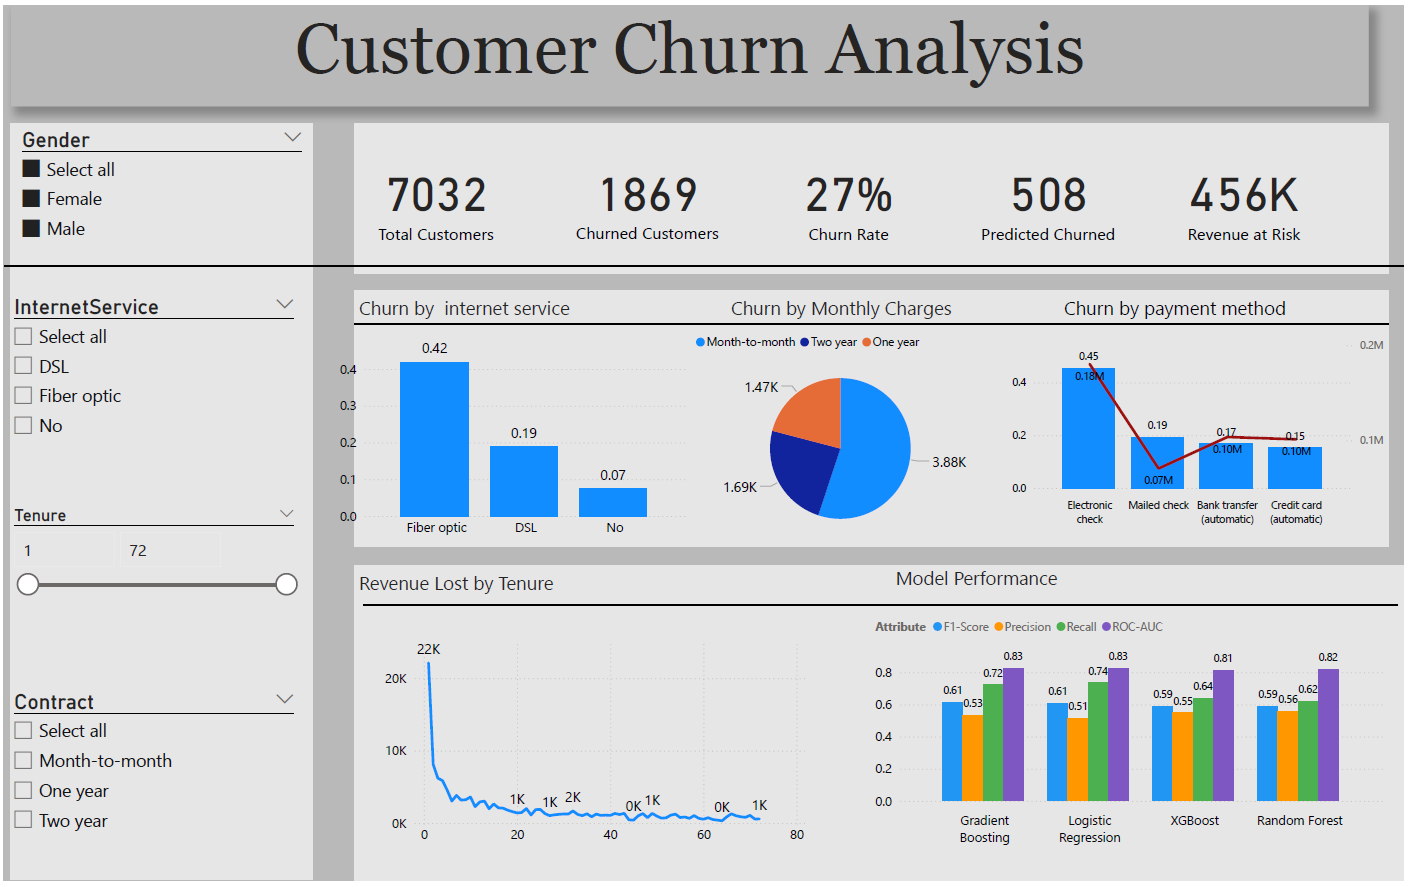

The page's visual inventory and layout, read from the dashboard file:
{"tool":"powerbi","page":{"name":"Customer Churn  Analysis","canvas":[1600,1000],"ordinal":0},"visuals":[{"type":"textbox","box":[9.4,0,1552,115.7],"z":0},{"type":"shape","box":[9.4,134.6,344.9,864.6],"z":1000},{"type":"slicer","fields":{"Values":["churn_cleaned.Gender"]},"box":[9.4,134.6,344.9,172.4],"z":2000},{"type":"slicer","fields":{"Values":["churn_cleaned.InternetService"]},"box":[0,326,344.9,200.8],"z":3000},{"type":"slicer","fields":{"Values":["churn_cleaned.Contract"]},"box":[0,777.2,344.9,191.3],"z":4000},{"type":"slicer","fields":{"Values":["churn_cleaned.Tenure"]},"box":[0,566.9,344.9,184.3],"z":5000},{"type":"shape","box":[402.1,640.1,1198.1,360.3],"z":6000},{"type":"shape","box":[401.6,326,1181.1,292.9],"z":7000},{"type":"shape","box":[401.6,134.6,1181.1,172.4],"z":8000},{"type":"card","fields":{"Values":["churn_cleaned.Total Customers"]},"box":[401.6,146.5,186.6,151.2],"z":9000},{"type":"card","fields":{"Values":["churn_cleaned.Revenue at Risk"]},"box":[1312.2,145.8,212.7,152.7],"z":10000},{"type":"card","fields":{"Values":["churn_cleaned.Churn Rate"]},"box":[873.1,145.8,187,152.7],"z":11000},{"type":"textbox","box":[401.6,326,328.3,49.6],"z":12000},{"type":"textbox","box":[826.8,325.9,711.8,39.5],"z":13000},{"type":"columnChart","fields":{"Category":["churn_cleaned.InternetService"],"Y":["churn_cleaned.Churn Rate"]},"box":[380.4,363.6,405.5,254.7],"z":14000},{"type":"shape","box":[1.7,283,1598.6,30.9],"z":15000},{"type":"shape","box":[401.6,352,1181.1,23.6],"z":16000},{"type":"pieChart","fields":{"Category":["churn_cleaned.Contract"],"Y":["CountNonNull(churn_cleaned.Churn)"]},"box":[785.9,365.3,341.8,254.7],"z":17000},{"type":"textbox","box":[1015.4,635.1,491,50.3],"z":18000},{"type":"lineClusteredColumnComboChart","fields":{"Category":["churn_cleaned.PaymentMethod"],"Y":["churn_cleaned.Churn Rate"],"Y2":["Sum(churn_cleaned.MonthlyCharges)"]},"box":[1147.8,375.3,435.7,227.9],"z":19000},{"type":"textbox","box":[1015.4,635.1,460.8,46.9],"z":20000},{"type":"textbox","box":[402.1,640.1,279.8,40.2],"z":21000},{"type":"card","fields":{"Values":["churn_cleaned.Churned Customers"]},"box":[631.7,145.8,209.5,150.8],"z":23000},{"type":"card","fields":{"Values":["churn_cleaned.Predicted Churned"]},"box":[1101.2,145.8,187,152.7],"z":24000},{"type":"lineChart","fields":{"Category":["churn_cleaned.Tenure"],"Y":["churn_cleaned.Revenue Lost"]},"box":[430.6,713.8,491,254.7],"z":25000},{"type":"clusteredColumnChart","fields":{"Category":["model_performance.Model"],"Y":["Avg(model_performance.Value)"],"Series":["model_performance.Attribute"]},"box":[992,690.4,591.5,278.2],"z":26000},{"type":"shape","box":[412.2,673.6,1181.3,23.5],"z":26001}]}

Visuals, with their boxes in screenshot pixels (x1, y1, x2, y2), scaled from the page's 1600x1000 canvas onto the 1410x887 screenshot:
textbox: BBox(8, 0, 1376, 103)
shape: BBox(8, 119, 312, 886)
slicer - churn_cleaned.Gender: BBox(8, 119, 312, 272)
slicer - churn_cleaned.InternetService: BBox(0, 289, 304, 467)
slicer - churn_cleaned.Contract: BBox(0, 689, 304, 859)
slicer - churn_cleaned.Tenure: BBox(0, 503, 304, 666)
shape: BBox(354, 568, 1409, 886)
shape: BBox(354, 289, 1395, 549)
shape: BBox(354, 119, 1395, 272)
card - churn_cleaned.Total Customers: BBox(354, 130, 518, 264)
card - churn_cleaned.Revenue at Risk: BBox(1156, 129, 1344, 265)
card - churn_cleaned.Churn Rate: BBox(769, 129, 934, 265)
textbox: BBox(354, 289, 643, 333)
textbox: BBox(729, 289, 1356, 324)
columnChart - churn_cleaned.InternetService x churn_cleaned.Churn Rate: BBox(335, 323, 693, 548)
shape: BBox(1, 251, 1409, 278)
shape: BBox(354, 312, 1395, 333)
pieChart - churn_cleaned.Contract x CountNonNull(churn_cleaned.Churn): BBox(693, 324, 994, 550)
textbox: BBox(895, 563, 1328, 608)
lineClusteredColumnComboChart - churn_cleaned.PaymentMethod x churn_cleaned.Churn Rate: BBox(1011, 333, 1395, 535)
textbox: BBox(895, 563, 1301, 605)
textbox: BBox(354, 568, 601, 603)
card - churn_cleaned.Churned Customers: BBox(557, 129, 741, 263)
card - churn_cleaned.Predicted Churned: BBox(970, 129, 1135, 265)
lineChart - churn_cleaned.Tenure x churn_cleaned.Revenue Lost: BBox(379, 633, 812, 859)
clusteredColumnChart - model_performance.Model x Avg(model_performance.Value): BBox(874, 612, 1395, 859)
shape: BBox(363, 597, 1404, 618)
